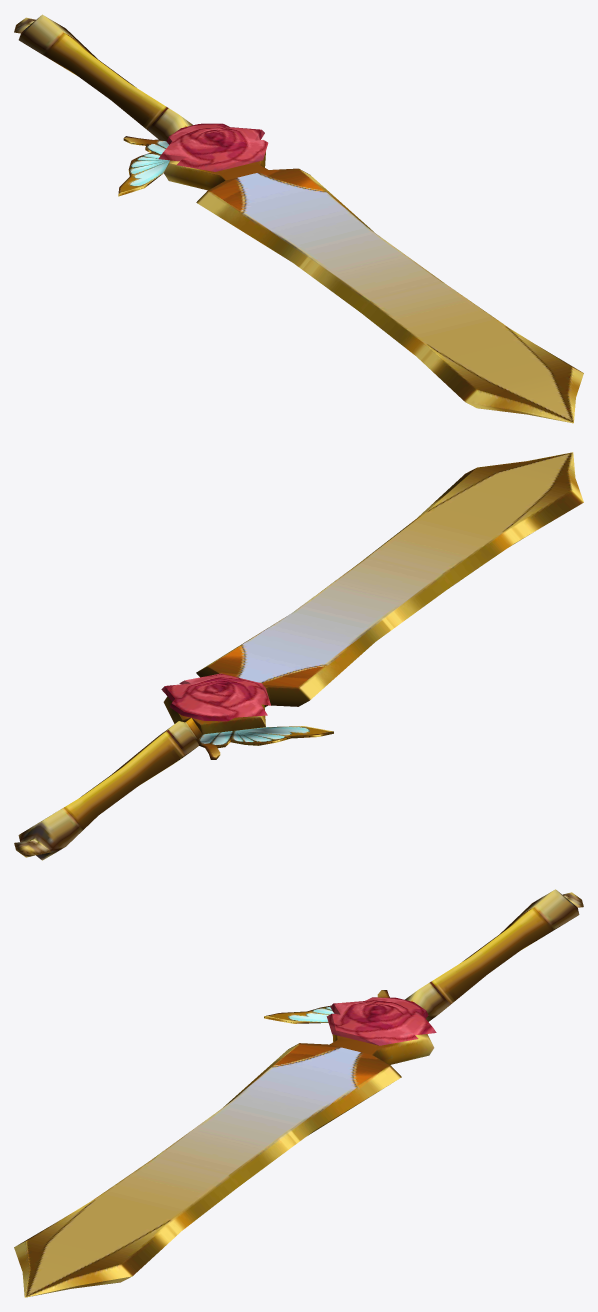
File: sword5026.fbx
3 views of the same model, one above another, from view 1: azimuth 30°, elevation 25°; view 2: azimuth 150°, elevation 25°; view 3: azimuth 330°, elevation 25° (orthographic).
Visible parts, largest first — view 1: sword0606_f; view 2: sword0606_f; view 3: sword0606_f.
Boxes of the visible parts, x1,y1,x2,y2 form: sword0606_f: (14,14,583,423); sword0606_f: (14,452,583,860); sword0606_f: (14,889,583,1297).
Bounding box in the file's own units: 0.1405 × 0.0388 × 0.8006.
